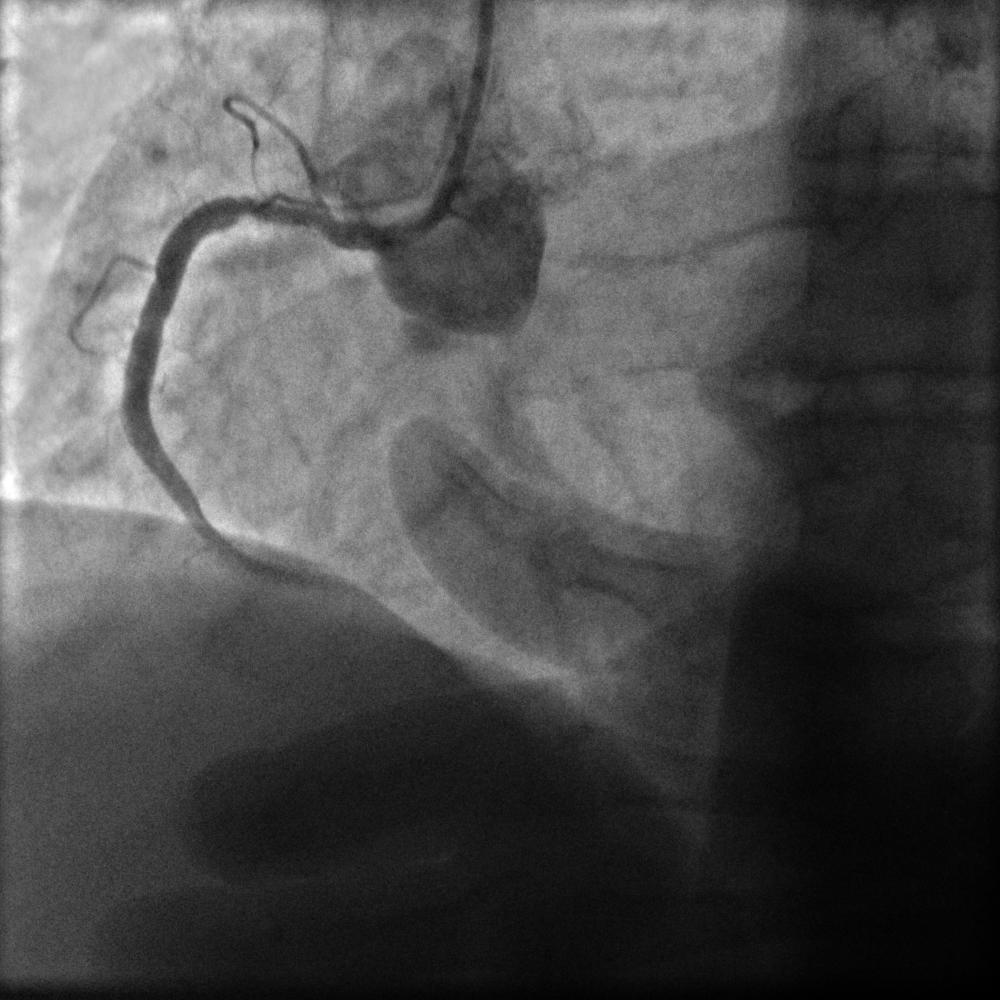Stenosis: (234, 182, 341, 248)
